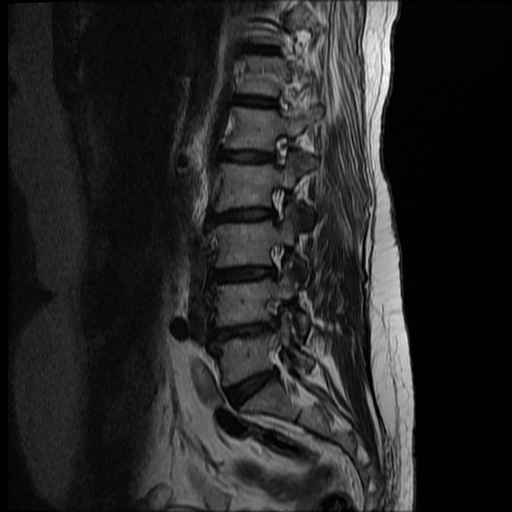RFS0: (260, 121, 298, 174), (255, 234, 292, 285), (259, 179, 295, 230)
